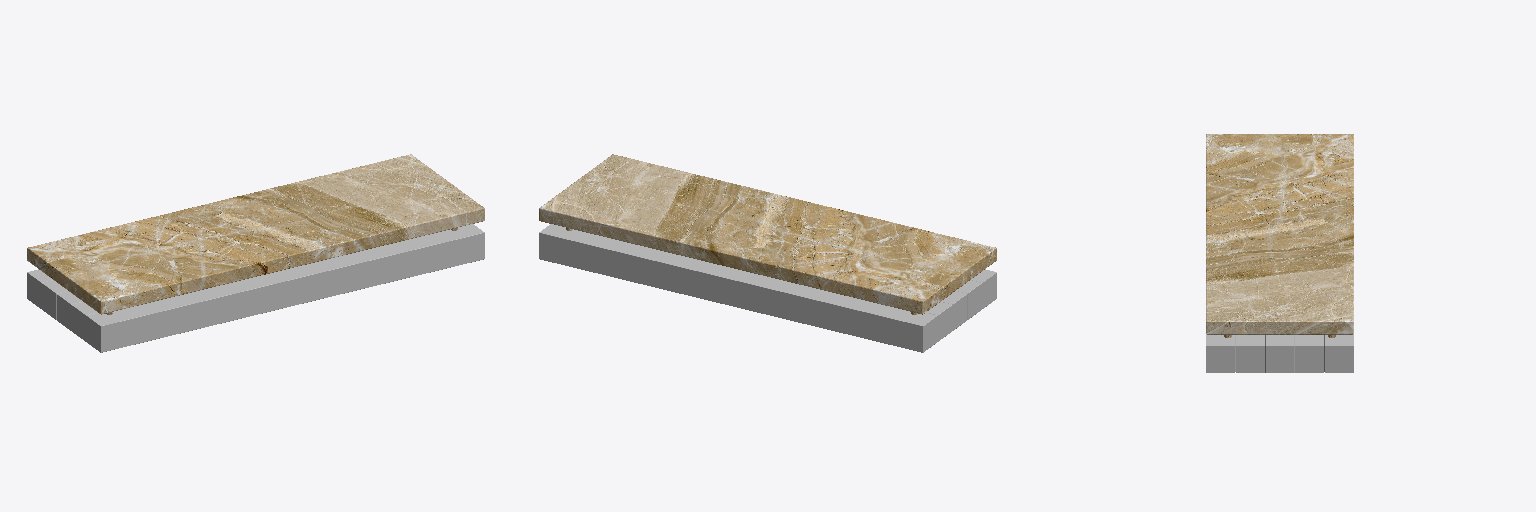
3 views of the same model, side by side, from view 1: azimuth 30°, elevation 25°; view 2: azimuth 150°, elevation 25°; view 3: azimuth 270°, elevation 25° (orthographic).
Parts seen in each view (by area): view 1: CoffeeTableMarble_Cylinder.000, CoffeeTableWood_Cylinder.002; view 2: CoffeeTableMarble_Cylinder.000, CoffeeTableWood_Cylinder.002; view 3: CoffeeTableMarble_Cylinder.000, CoffeeTableWood_Cylinder.002.
Part boxes in pixels (bbox=[...]): CoffeeTableMarble_Cylinder.000: bbox=[27, 154, 484, 314]; CoffeeTableWood_Cylinder.002: bbox=[27, 224, 484, 352]; CoffeeTableMarble_Cylinder.000: bbox=[539, 154, 996, 314]; CoffeeTableWood_Cylinder.002: bbox=[539, 224, 996, 352]; CoffeeTableMarble_Cylinder.000: bbox=[1206, 134, 1353, 334]; CoffeeTableWood_Cylinder.002: bbox=[1206, 334, 1353, 372].
Size of the model in its own units: 150 by 21.11 by 50.
Materials: 3 (1 with a texture image).